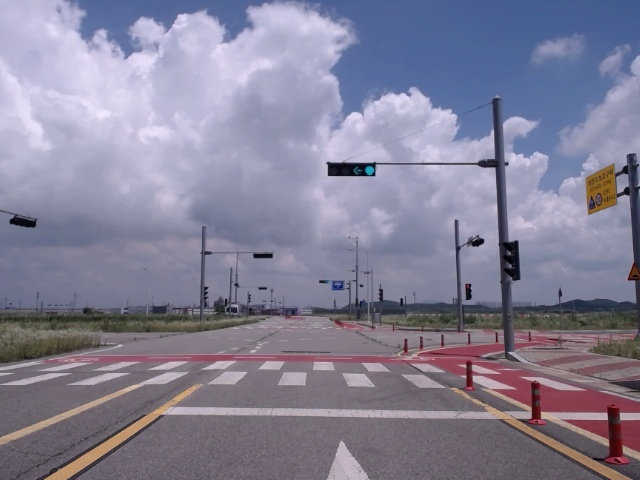all_green_4: (328, 163, 376, 179)
